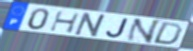0: (27, 7, 52, 31)
D: (150, 21, 184, 46)
H: (48, 10, 82, 34)
J: (105, 17, 130, 39)
N: (124, 18, 163, 45), (72, 12, 109, 39)
